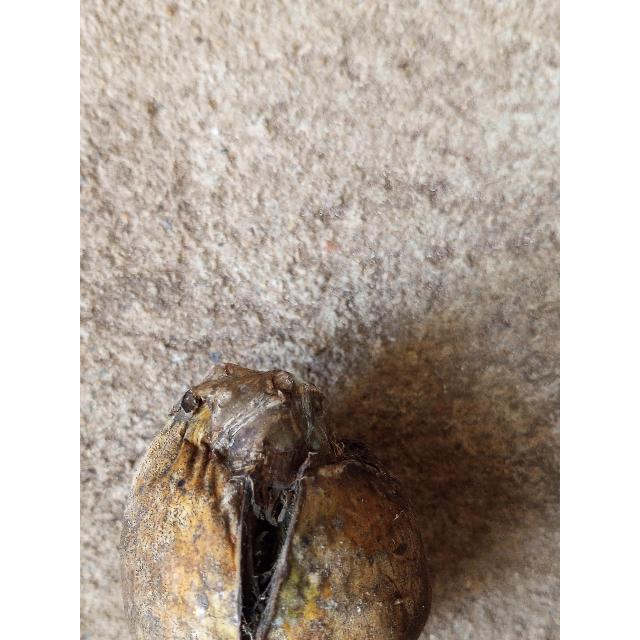damaged: (122, 363, 431, 640)
